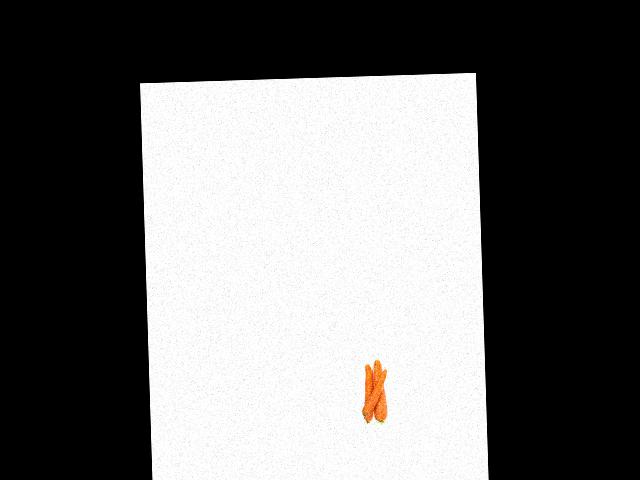carrot: (361, 362, 376, 427)
